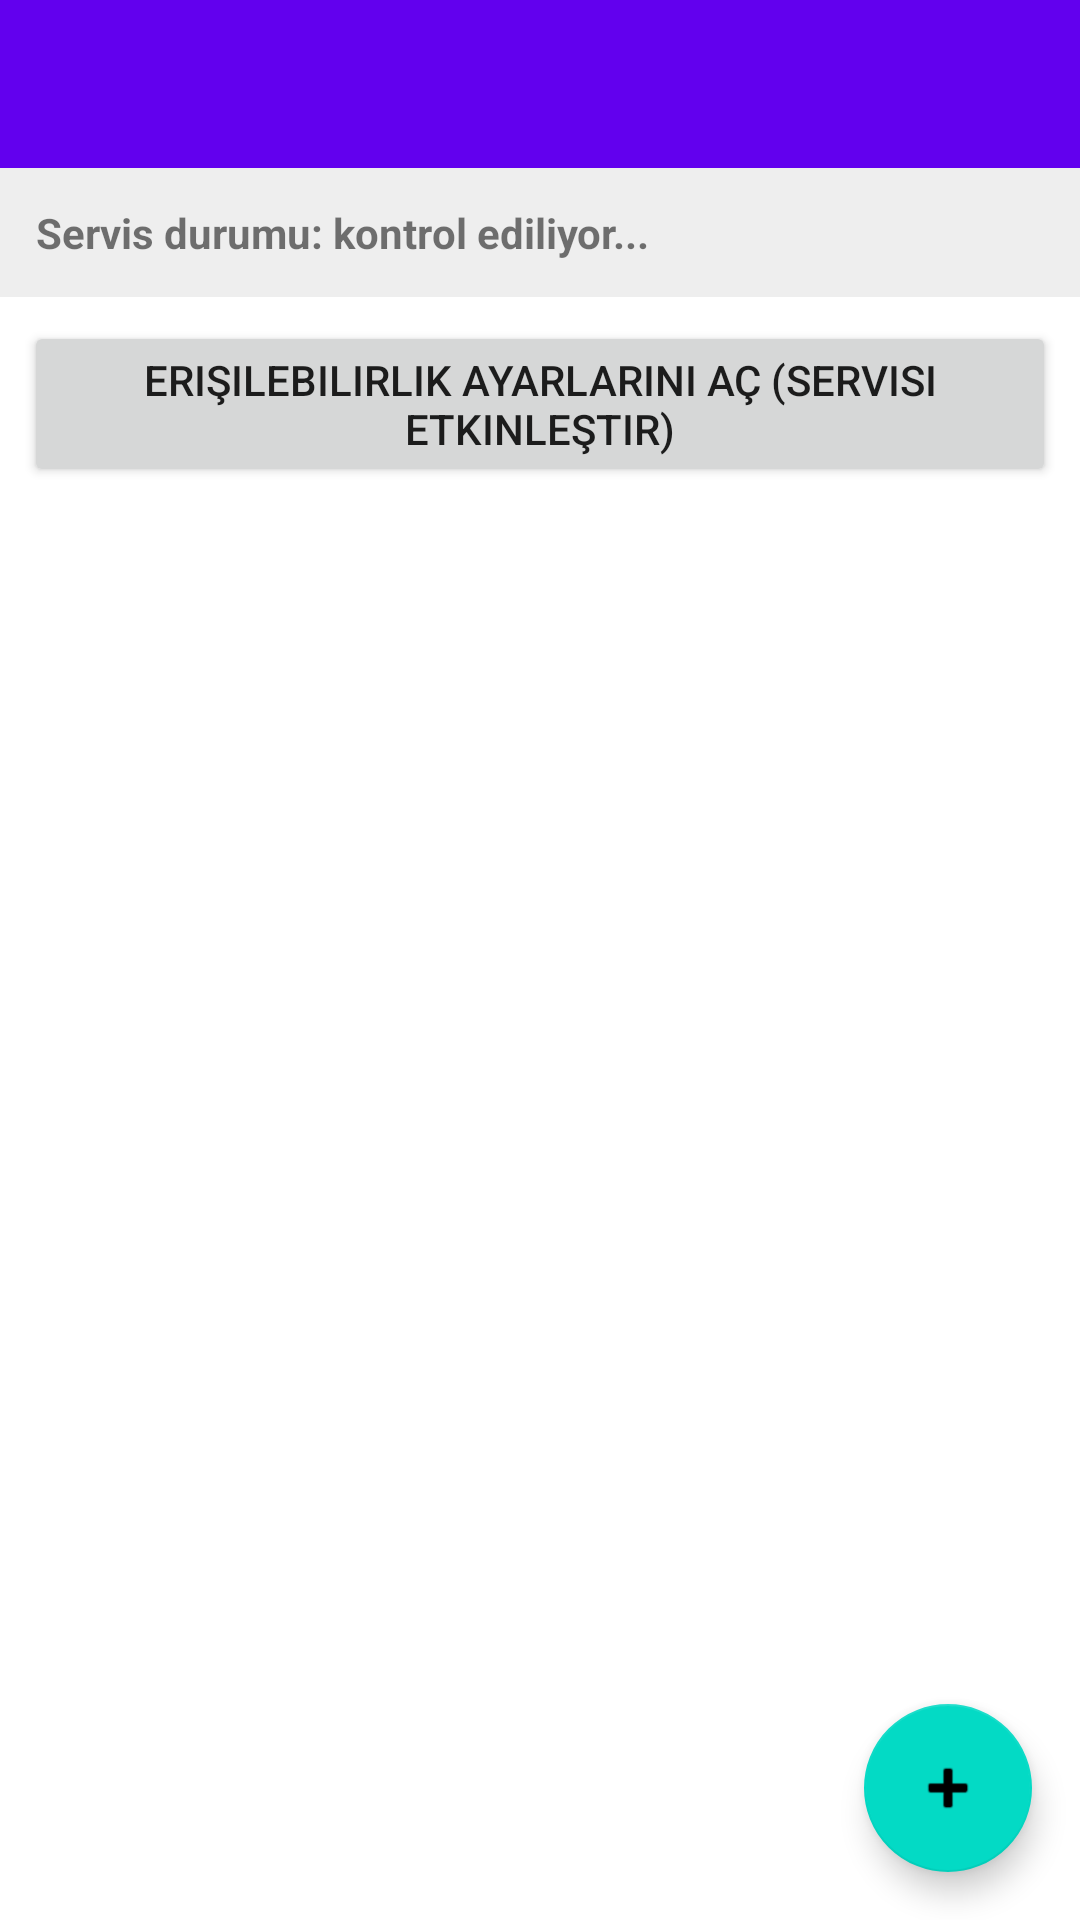

Where icons sit on this 1080 x 1920 app screen, as box(x1, y1, x2, y2):
Config Ekle: box(864, 1704, 1032, 1872)
